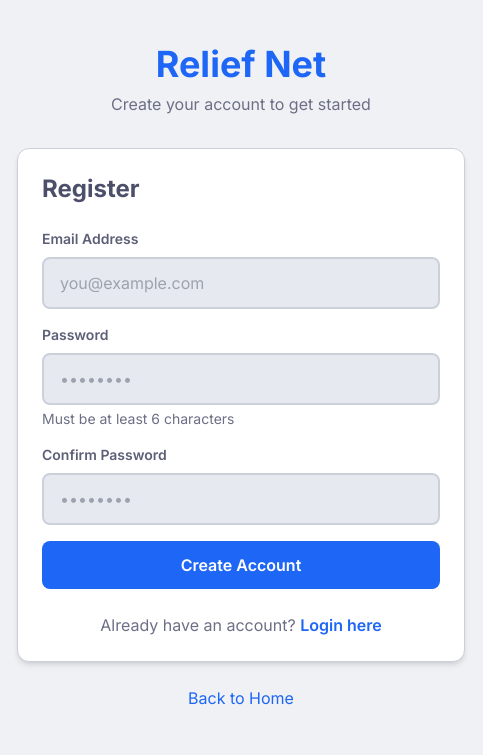
Test: Register Page - Account Creation Tests › Form Validation › should show error when passwords do not match
This screenshot has width=483, height=755.
Type "test@example.com" into the field labelled "Email Address".
click(241, 283); type("test@example.com")  # box 42,257 -> 440,309
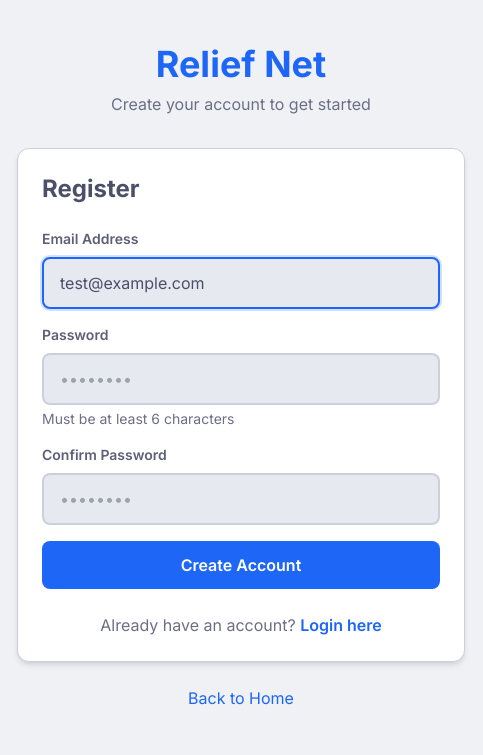
Type "password123" into the password field labelled "Password".
click(241, 379); type("password123")  # box 42,353 -> 440,405
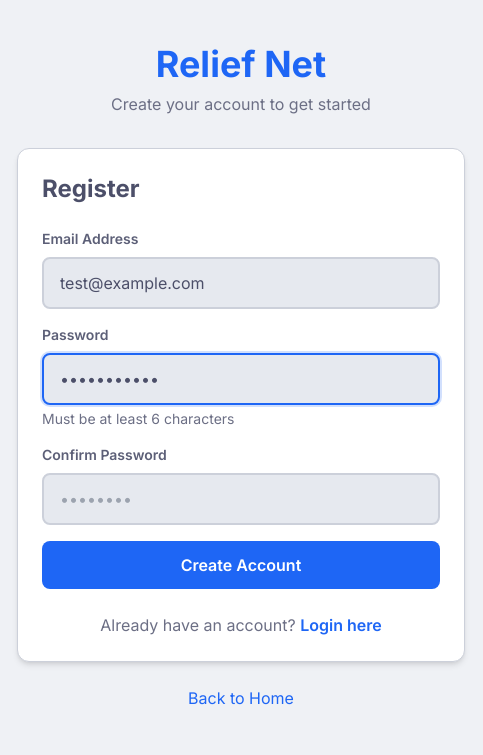
Type "password456" into the password field labelled "Confirm Password".
click(241, 499); type("password456")  # box 42,473 -> 440,525
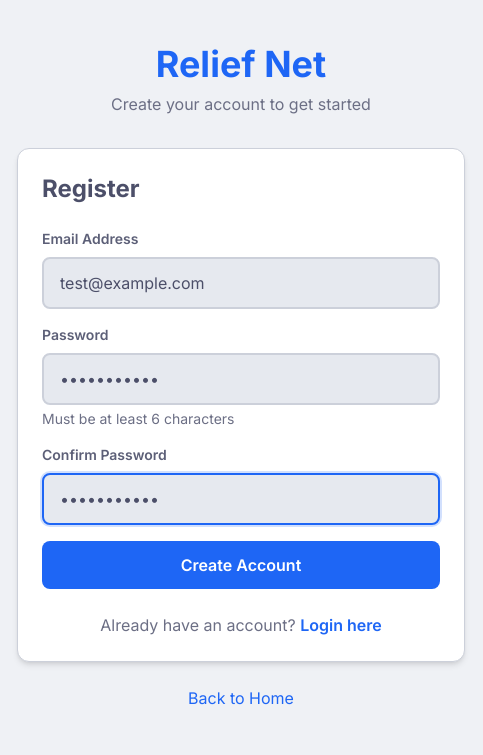
Click the button "Create Account".
click(241, 565)  # box 42,541 -> 440,589
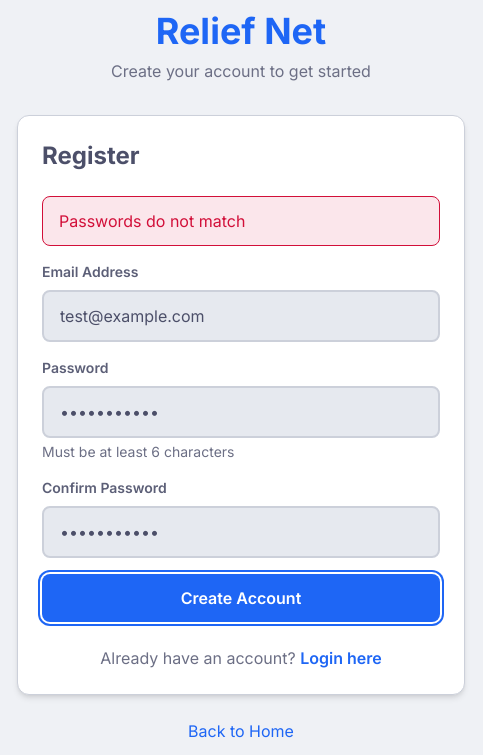
Check: the text "Passwords do not match" is shown, box 42,196 -> 440,246
